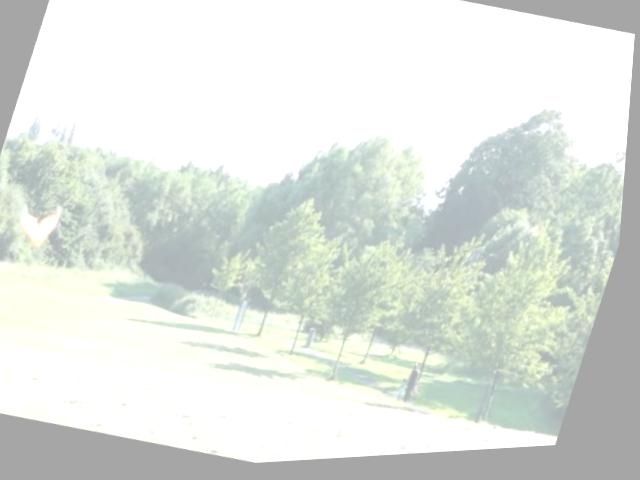flying wing: (10, 193, 72, 257)
